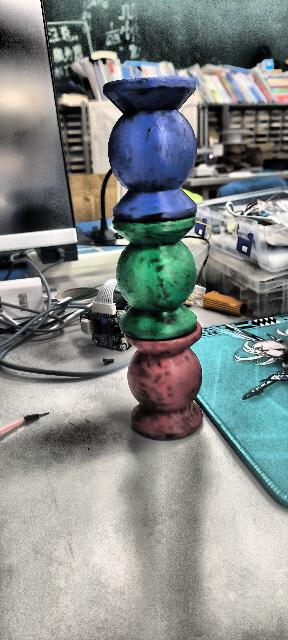blue: (102, 75, 198, 221)
green: (115, 214, 199, 343)
red: (123, 320, 207, 442)
